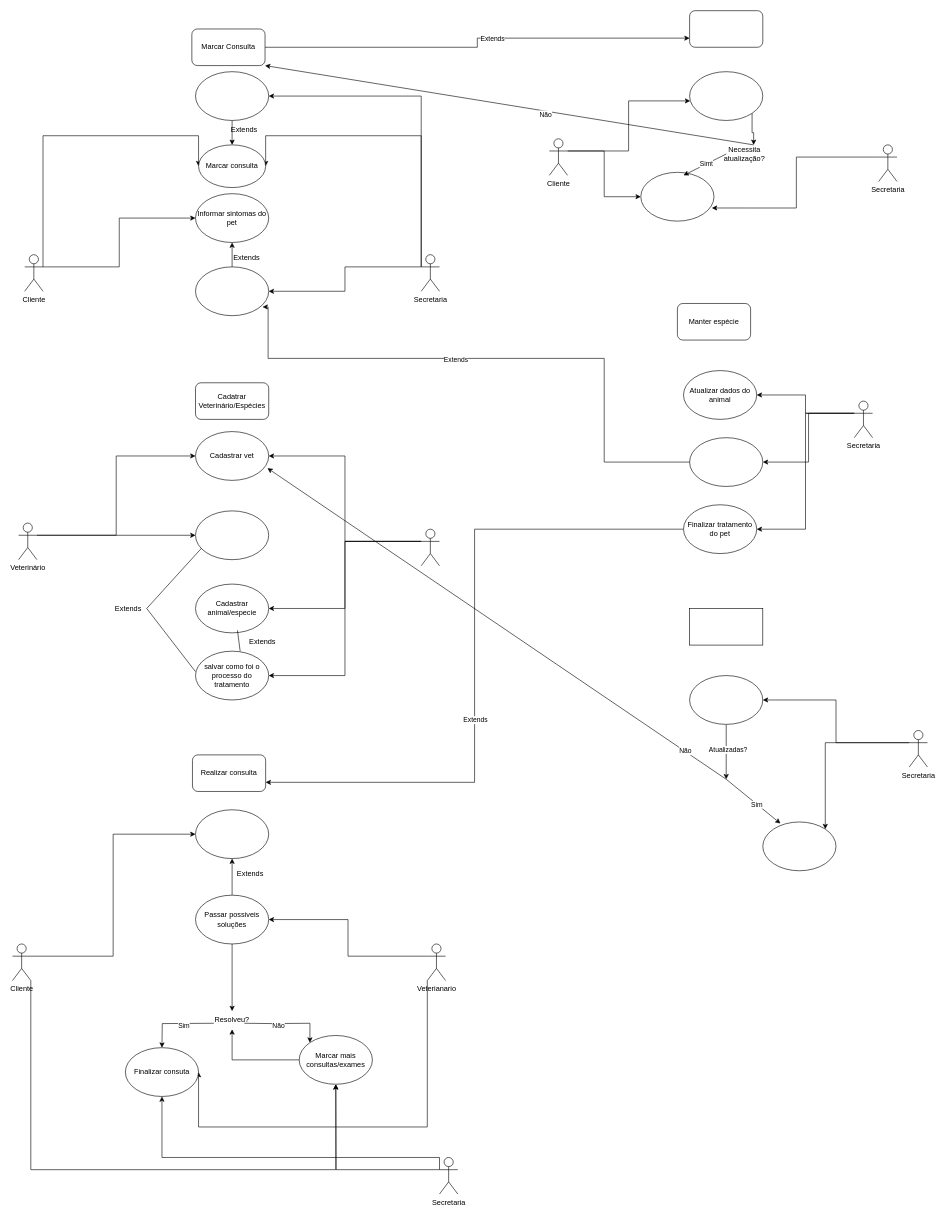
Some shapes in this 946 by 1227 pixel diagram are drawn without their labels. Each missing label, with the box of its shape:
Animais tratados e seus tratamentos: (195, 510, 269, 560)
Atualizar info do vet: (689, 675, 763, 724)
Cadastrar procedimentos do veterinario: (762, 821, 836, 871)
Informar atuais sintomas no sistema: (689, 437, 763, 486)
Informar e registrar dados a serem atualizados: (640, 172, 714, 221)
Informar sintomas do animal: (195, 809, 269, 859)
Manter cliente: (689, 10, 763, 47)
Manter veterianario: (689, 608, 763, 645)
Pedir os dados do cliente: (689, 71, 763, 120)
Registrar/atualizar cliente/animal: (195, 71, 269, 120)
Salvar sintomas do pet: (195, 266, 269, 316)
Secretario: (421, 529, 440, 566)
